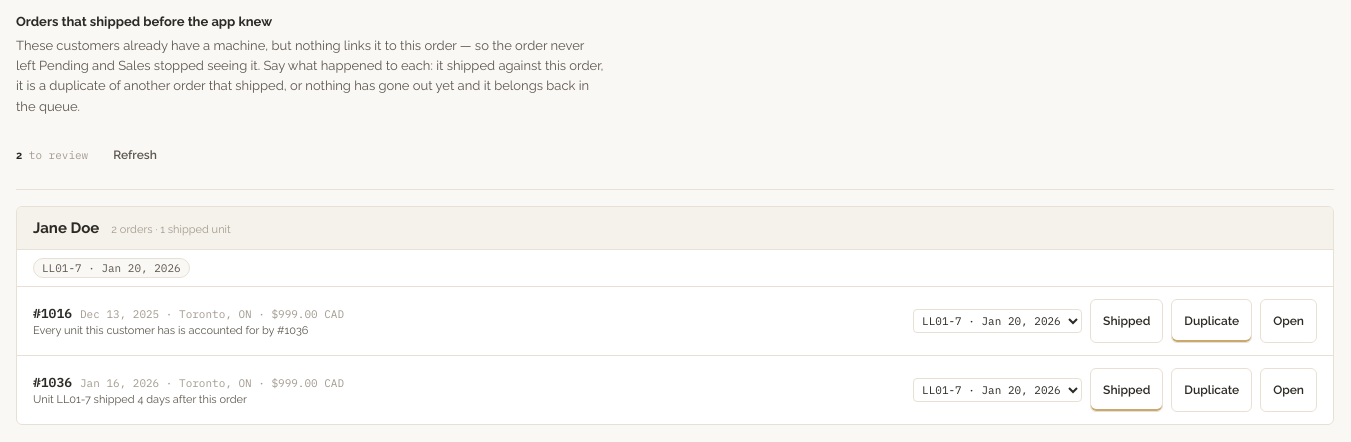
Reconcile › surfaces a write failure on the row instead of claiming success
Click the button "Shipped" in the row of "Jan 16, 2026": point(1127, 390) [1090, 368, 1163, 412]
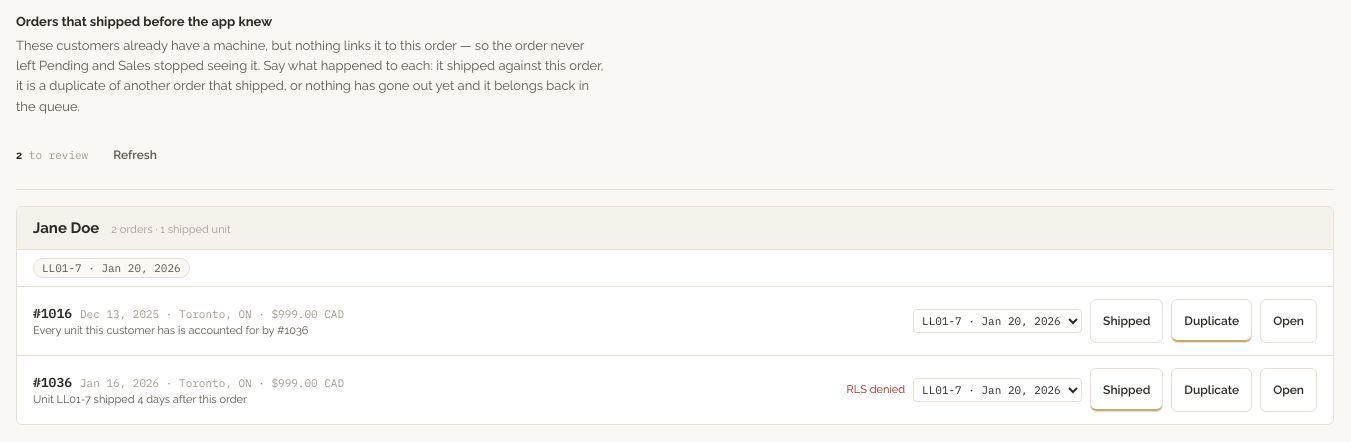
Expected: the text "RLS denied" is shown, [847, 383, 905, 396]
